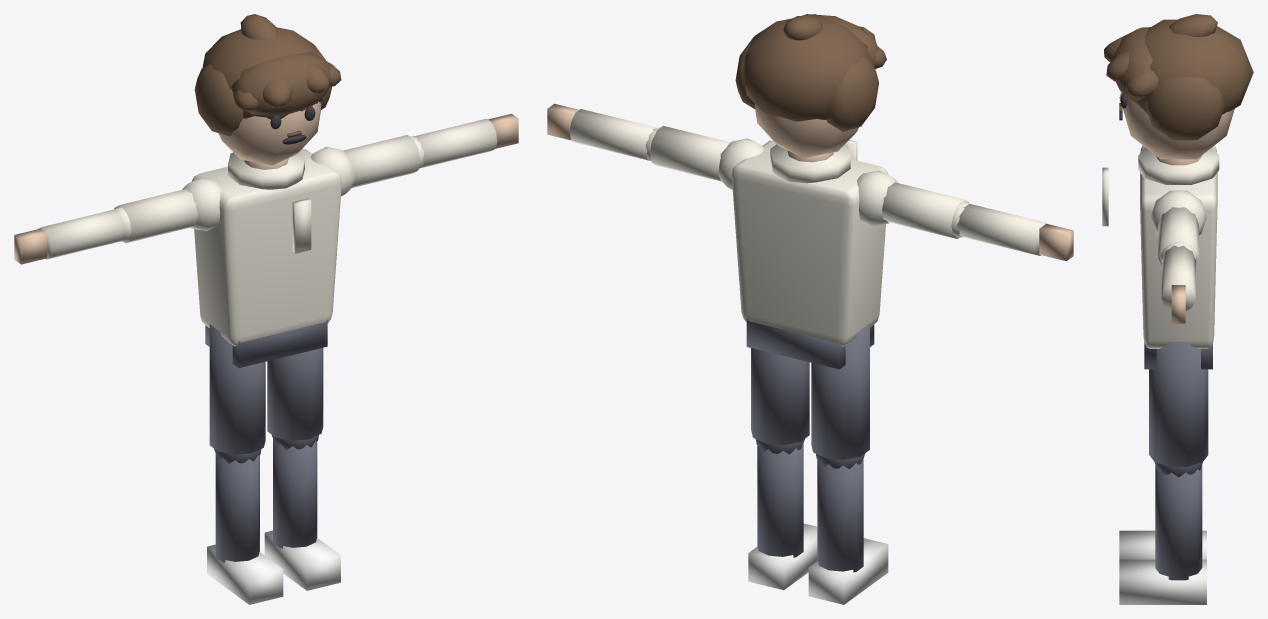
The model's file is indy-tpose.fbx.
The picture shows the model from 3 angles, left to right: view 1: azimuth 30°, elevation 25°; view 2: azimuth 150°, elevation 25°; view 3: azimuth 270°, elevation 25°; orthographic projection. The views are drawn at different scales.
Visible parts, largest first — view 1: Indy; view 2: Indy; view 3: Indy.
Boxes of the visible parts, x1,y1,x2,y2 form: Indy: (14, 14, 518, 604); Indy: (547, 14, 1073, 604); Indy: (1102, 14, 1253, 604).
Bounding box in the file's own units: 1.9 × 2 × 0.485.
